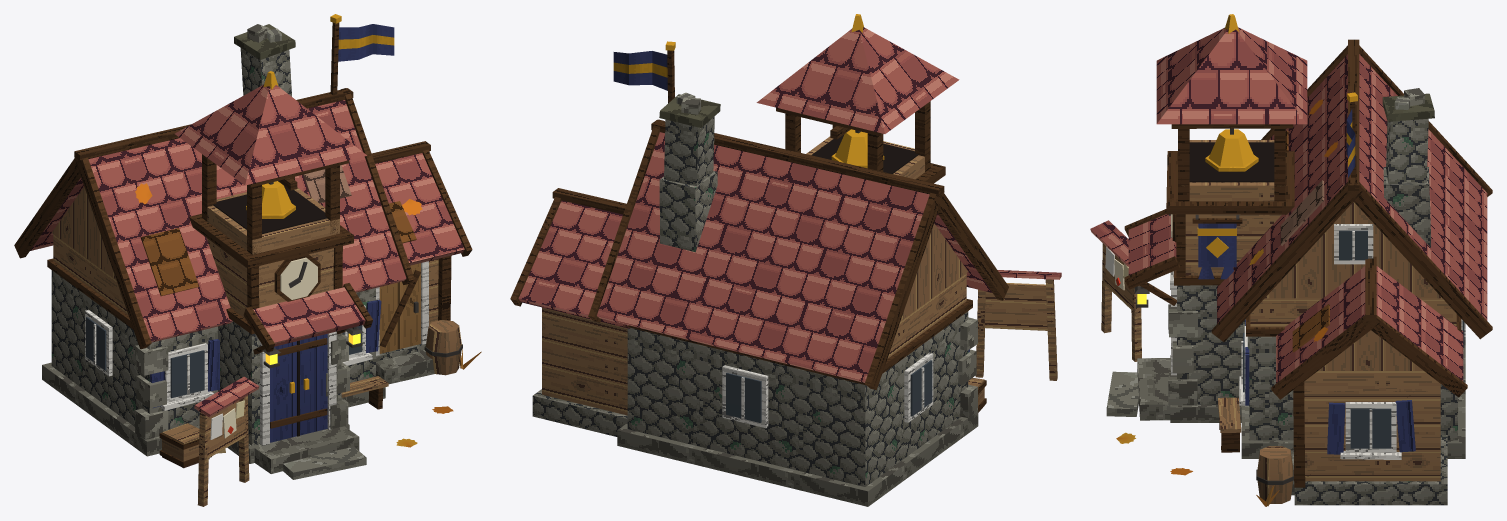
The model's file is town_center_2.glb.
3 renders of one model, left to right at view 1: azimuth 30°, elevation 25°; view 2: azimuth 150°, elevation 25°; view 3: azimuth 270°, elevation 25°, orthographic. The views are drawn at different scales.
Visible parts, largest first — view 1: town_center_2, sway_flag, sway_bell; view 2: town_center_2, sway_flag, sway_bell; view 3: town_center_2, sway_flag_2, sway_bell, sway_flag.
Part boxes in pixels (box(x1,y1,x2,y2)): town_center_2: box(14, 14, 481, 506); sway_flag: box(338, 24, 394, 61); sway_bell: box(246, 181, 295, 218); town_center_2: box(510, 14, 1061, 506); sway_flag: box(613, 51, 667, 90); sway_bell: box(831, 129, 884, 168); town_center_2: box(1090, 14, 1492, 506); sway_flag_2: box(1192, 218, 1242, 279); sway_bell: box(1205, 128, 1258, 171); sway_flag: box(1346, 109, 1355, 177).
Size of the model in its own units: 7.62 by 7.3 by 6.94.
32 materials, 19 textured.
